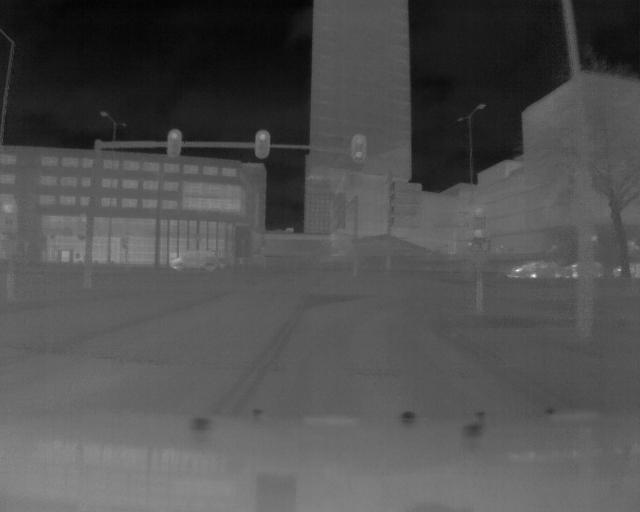car: (171, 247, 224, 276), (512, 258, 562, 284)
